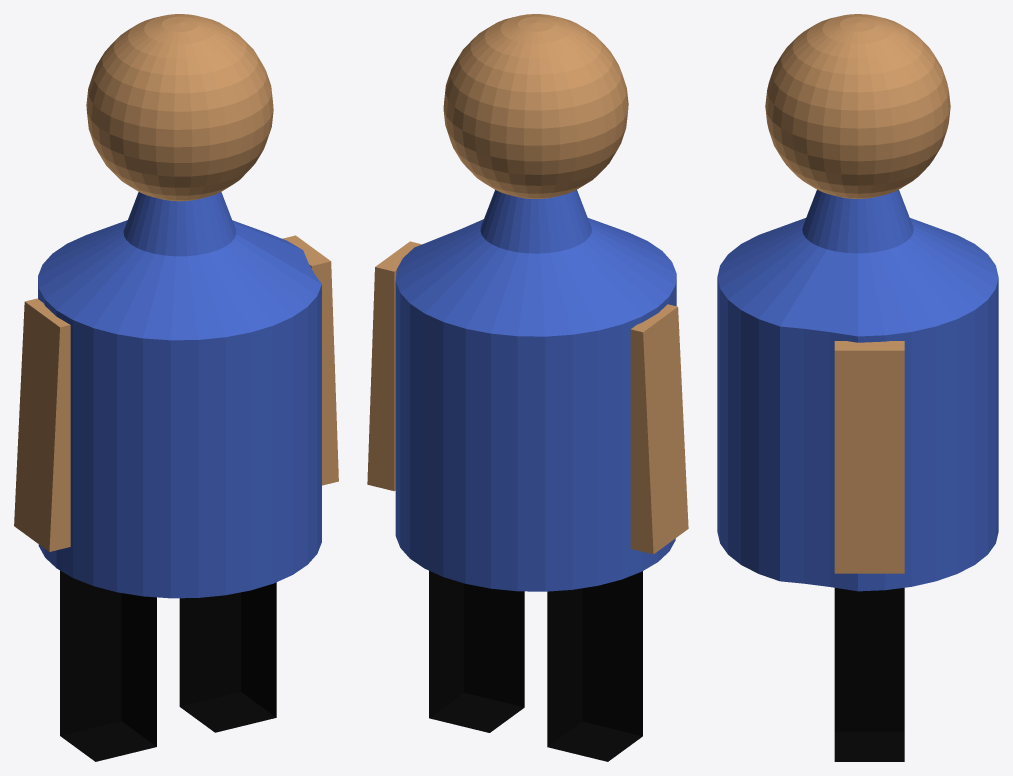
File: Person1.obj
3 views of the same model, side by side, from view 1: azimuth 30°, elevation 25°; view 2: azimuth 150°, elevation 25°; view 3: azimuth 270°, elevation 25° (orthographic).
Parts seen in each view (by area): view 1: Cylinder.003_Cylinder; view 2: Cylinder.003_Cylinder; view 3: Cylinder.003_Cylinder.
Boxes of the visible parts, box(x1,y1,x2,y2) form: Cylinder.003_Cylinder: box(14, 14, 338, 761); Cylinder.003_Cylinder: box(367, 14, 688, 761); Cylinder.003_Cylinder: box(717, 14, 998, 761).
Size of the model in its own units: 0.46 by 1.07 by 0.3918.
